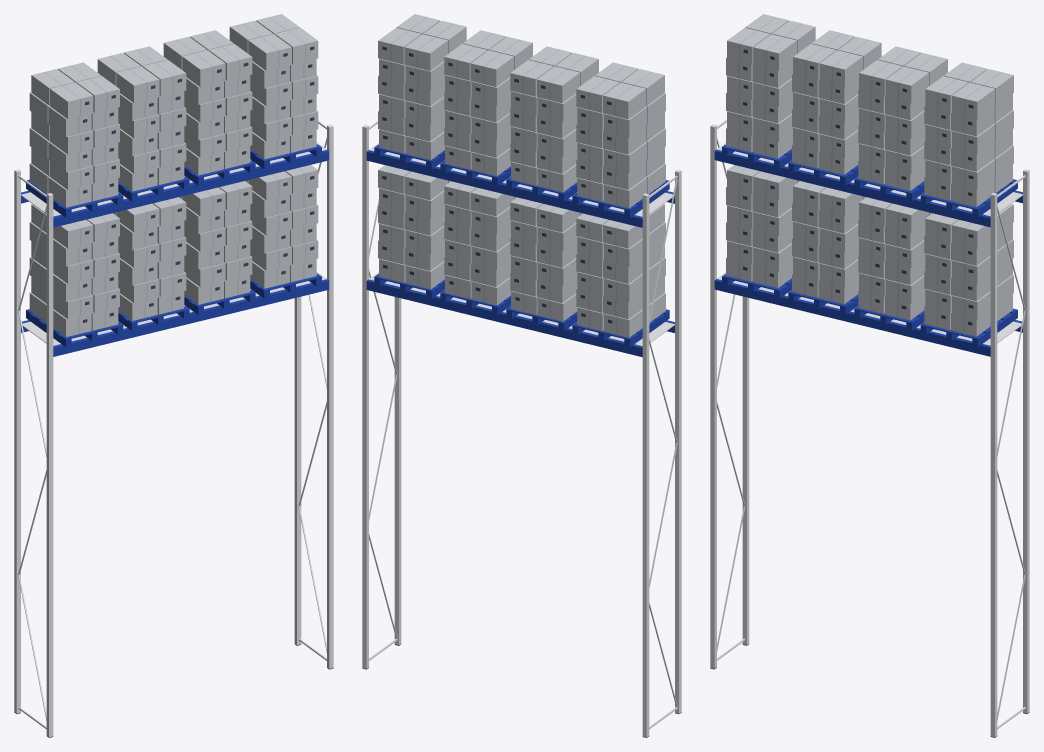
The model's file is SM_MPR_CADRack_F5_W192_Passage_LOD1.fbx.
The picture shows the model from 3 angles, left to right: view 1: azimuth 30°, elevation 25°; view 2: azimuth 150°, elevation 25°; view 3: azimuth 330°, elevation 25°; orthographic projection.
Parts seen in each view (by area): view 1: SM_MPR_CADRack_F5_W192_Passage_LOD1; view 2: SM_MPR_CADRack_F5_W192_Passage_LOD1; view 3: SM_MPR_CADRack_F5_W192_Passage_LOD1.
Boxes of the visible parts, bbox=[...] form: SM_MPR_CADRack_F5_W192_Passage_LOD1: bbox=[14, 14, 333, 737]; SM_MPR_CADRack_F5_W192_Passage_LOD1: bbox=[362, 14, 681, 737]; SM_MPR_CADRack_F5_W192_Passage_LOD1: bbox=[710, 14, 1029, 737].
Bounding box in the file's own units: 503 × 122 × 1068.
